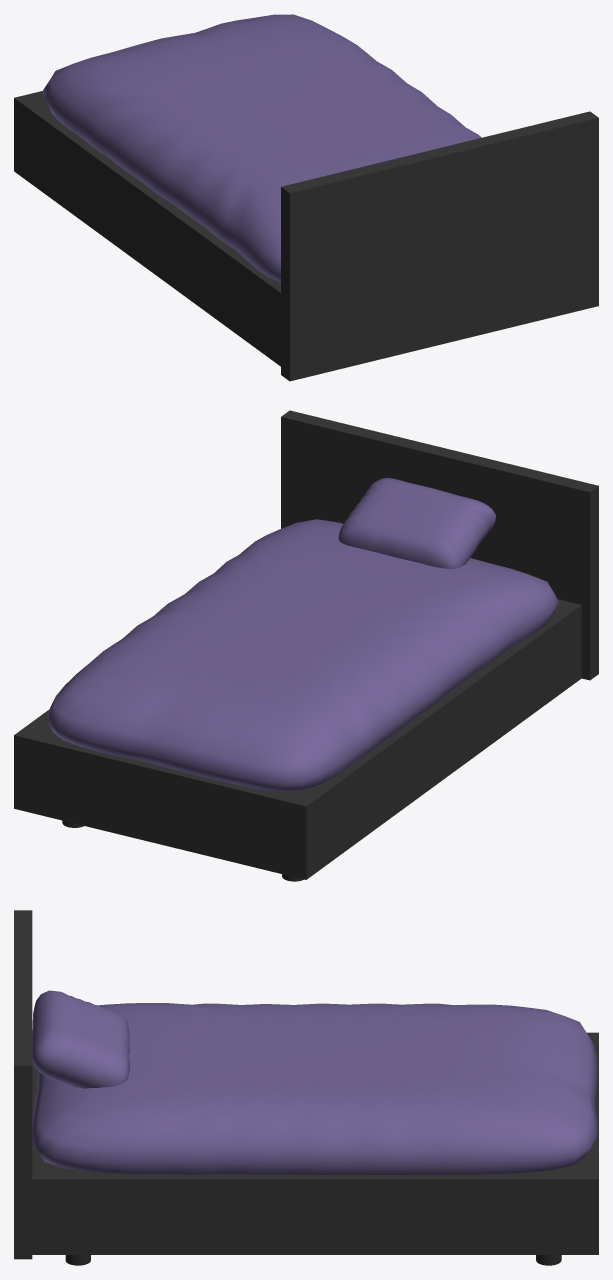
The model's file is Lit1_7.fbx.
3 views of the same model, one above another, from view 1: azimuth 30°, elevation 25°; view 2: azimuth 150°, elevation 25°; view 3: azimuth 270°, elevation 25° (orthographic). The views are drawn at different scales.
Visible parts, largest first — view 1: pCube2134, pCylinder1506, pCube2135; view 2: pCylinder1506, pCube2135, pCube2134, pCylinder1507; view 3: pCylinder1506, pCube2135, pCylinder1507, pCube2134, pCylinder1508.
Part boxes in pixels (x1,y1,x2,y2): pCube2134: (281,111,598,381); pCylinder1506: (42,14,481,282); pCube2135: (14,91,280,366); pCylinder1506: (47,519,558,792); pCube2135: (14,599,581,879); pCube2134: (281,410,598,680); pCylinder1507: (338,477,495,568); pCylinder1506: (32,1003,597,1174); pCube2135: (32,1032,598,1254); pCylinder1507: (32,990,129,1088); pCube2134: (14,910,32,1259); pCylinder1508: (65,1255,561,1265).
Size of the model in its own units: 89.96 by 58.72 by 143.
